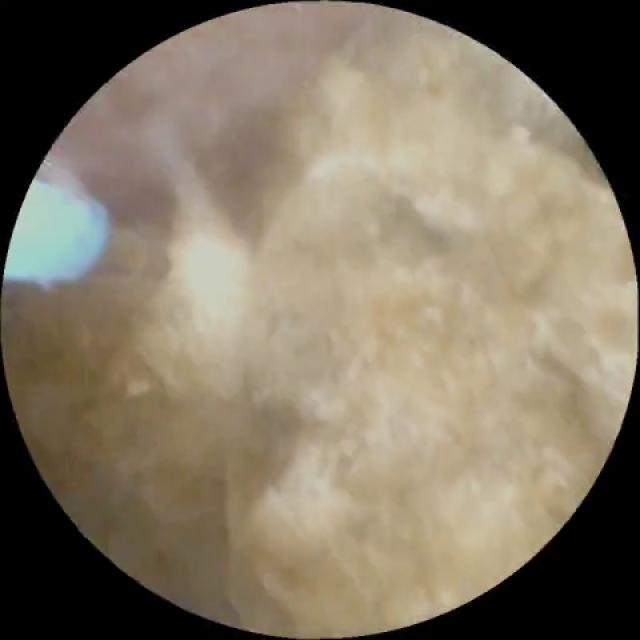fiber: (11, 185, 106, 279)
stone: (8, 20, 625, 627)
